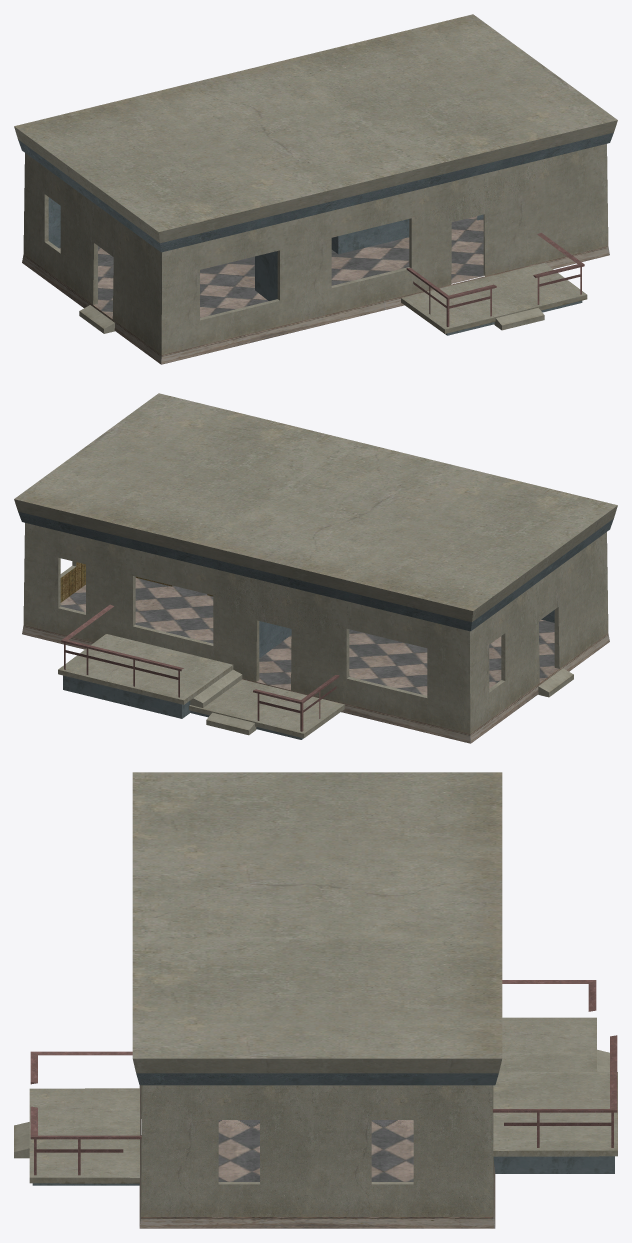
Rendered from Building_1c012048_lod2.glb.
3 views of the same model, one above another, from view 1: azimuth 30°, elevation 25°; view 2: azimuth 150°, elevation 25°; view 3: azimuth 270°, elevation 25° (orthographic). The views are drawn at different scales.
Parts seen in each view (by area): view 1: xiutz_1c_01_2048_lod2; view 2: xiutz_1c_01_2048_lod2; view 3: xiutz_1c_01_2048_lod2.
Part boxes in pixels (x1,y1,x2,y2): xiutz_1c_01_2048_lod2: (14, 14, 617, 364); xiutz_1c_01_2048_lod2: (14, 393, 617, 743); xiutz_1c_01_2048_lod2: (14, 772, 617, 1228).
Bounding box in the file's own units: 23.16 × 6.51 × 20.42.
Materials: 1 (1 with a texture image).
